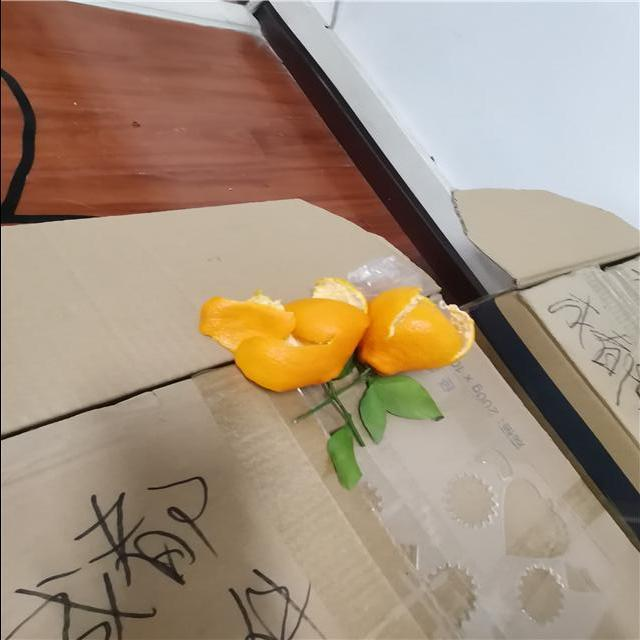orange peel: (187, 251, 371, 403), (358, 286, 482, 378)
